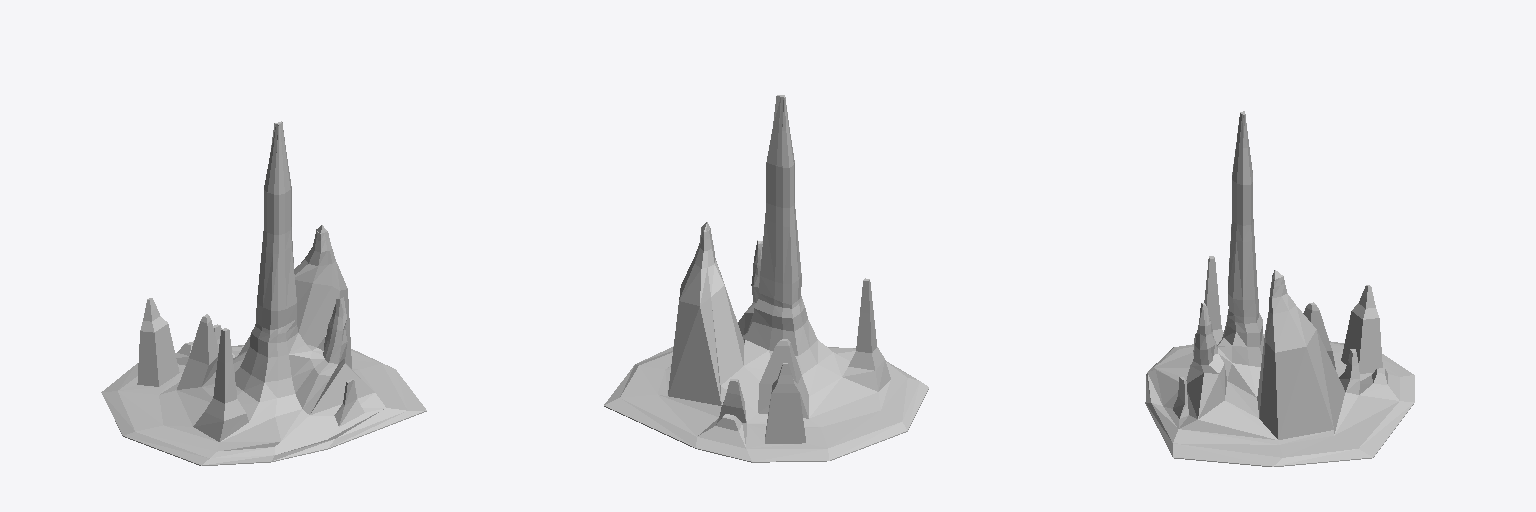
Rendered from stalagmite.obj.
3 views of the same model, side by side, from view 1: azimuth 30°, elevation 25°; view 2: azimuth 150°, elevation 25°; view 3: azimuth 270°, elevation 25° (orthographic).
Visible parts, largest first — view 1: pCube2; view 2: pCube2; view 3: pCube2.
Boxes of the visible parts, box(x1,y1,x2,y2) form: pCube2: box(101, 121, 426, 465); pCube2: box(604, 95, 928, 462); pCube2: box(1145, 111, 1414, 466).
Bounding box in the file's own units: 2.75 × 2.8 × 2.35.